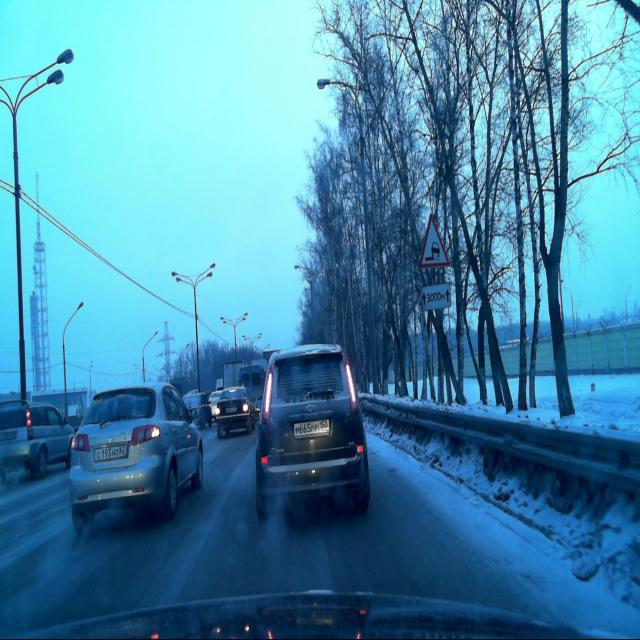road sign: (420, 209, 450, 268), (422, 282, 450, 310)
